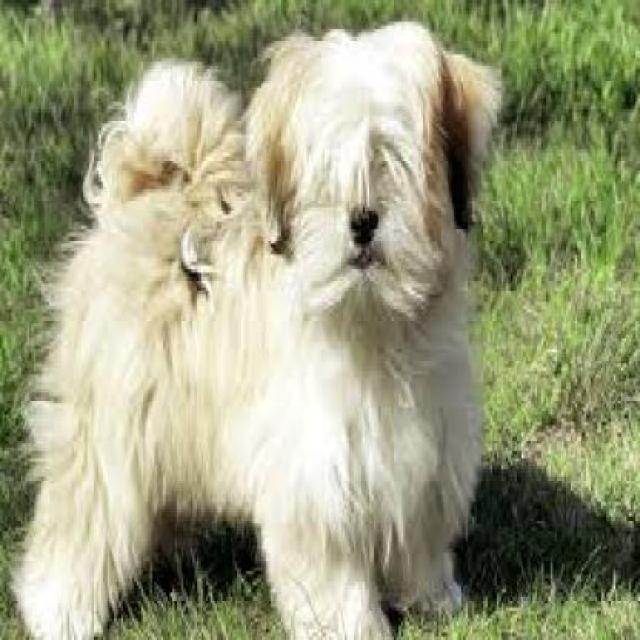animals: (31, 32, 508, 640)
